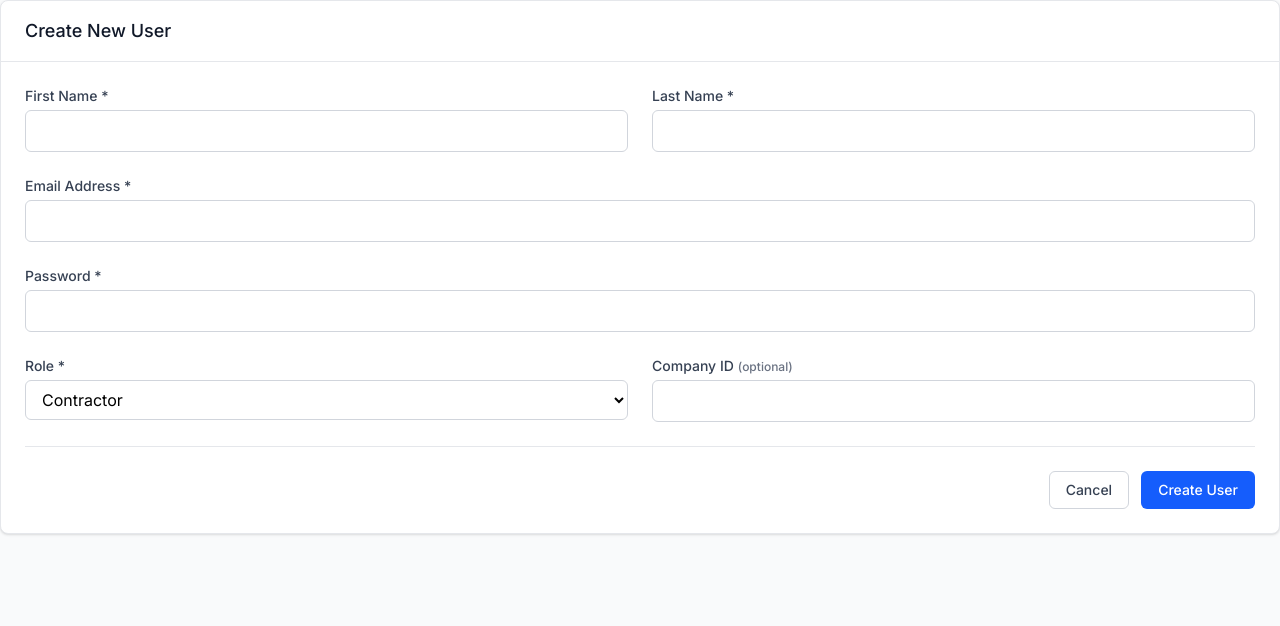
Test case: UserForm › Error Handling › displays generic error message for unknown errors
Fill and submit form
Type "Test" into the field labelled "First Name *" at [326, 131], box [25,110,628,152]
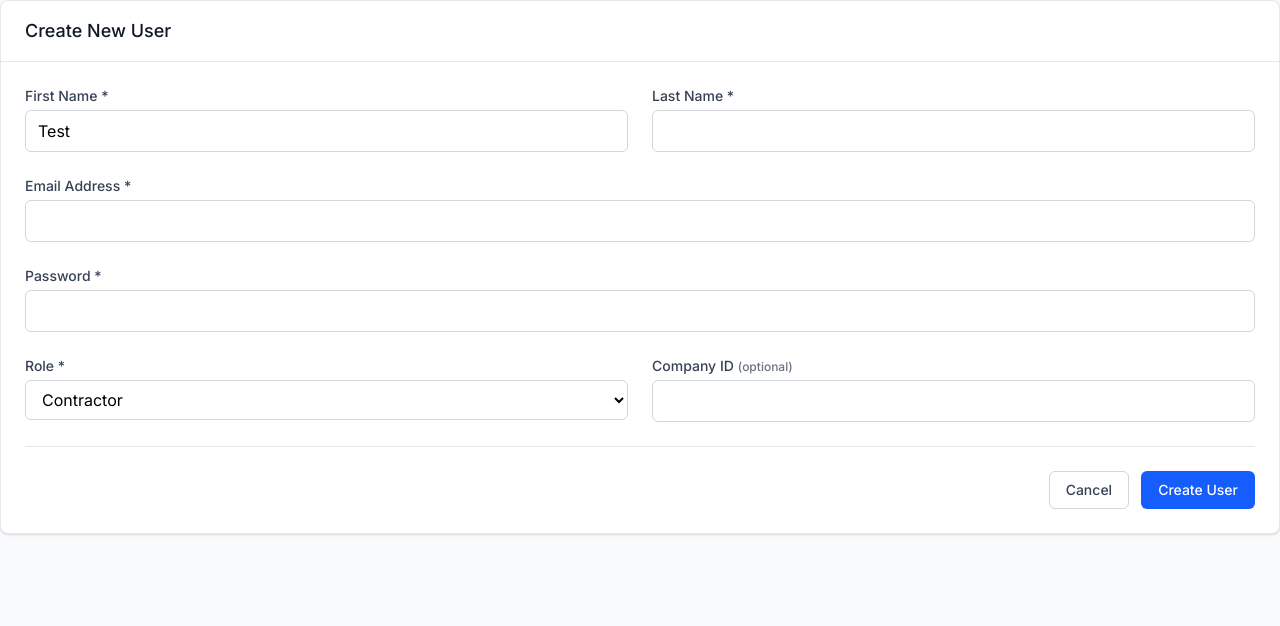
Type "User" into the field labelled "Last Name *" at [954, 131], box [652,110,1255,152]
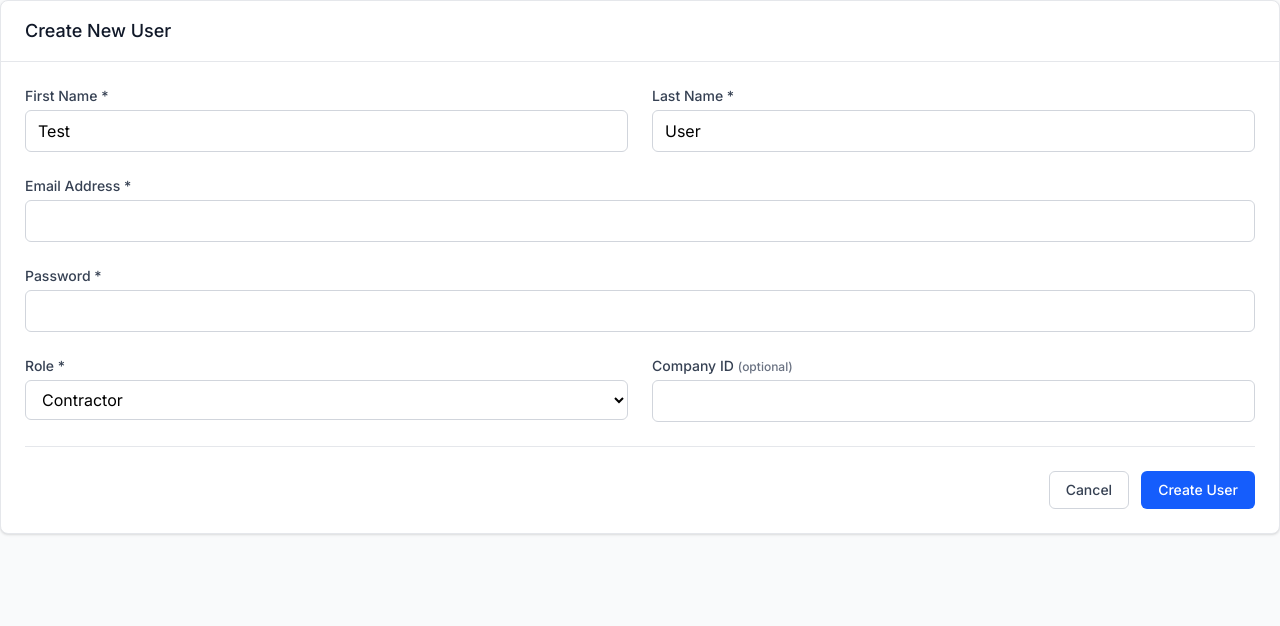
Type "test@example.com" into the field labelled "Email Address *" at [640, 221], box [25,200,1255,242]
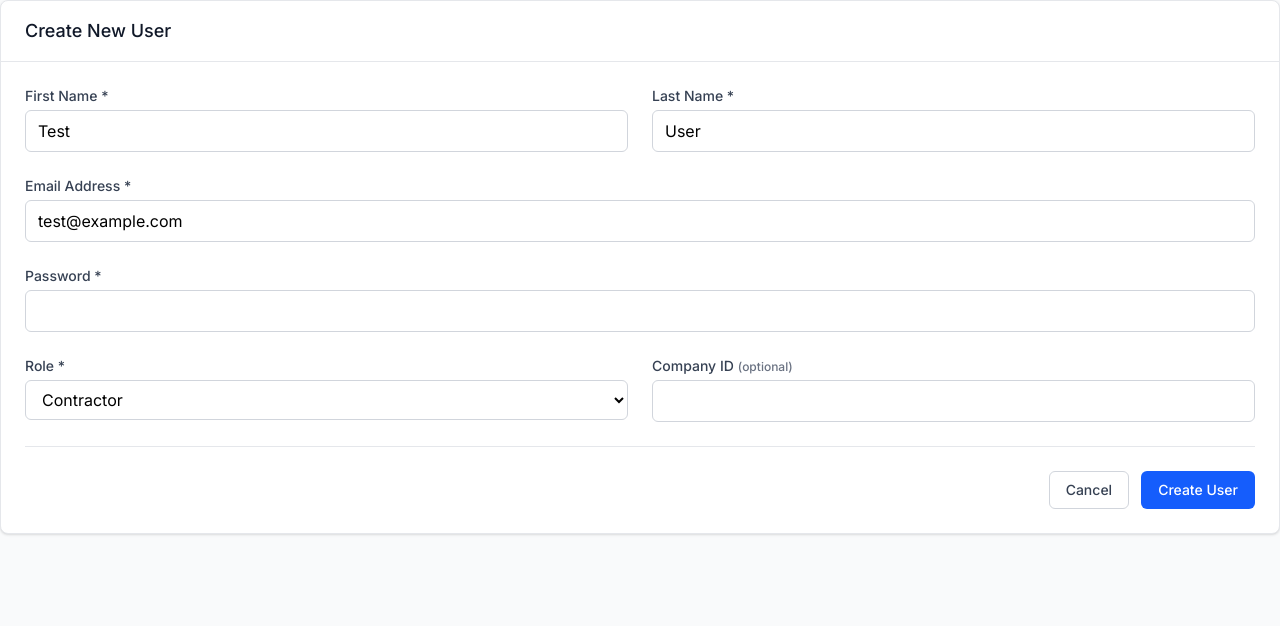
Type "password123" into the password field labelled "Password *" at [640, 311], box [25,290,1255,332]
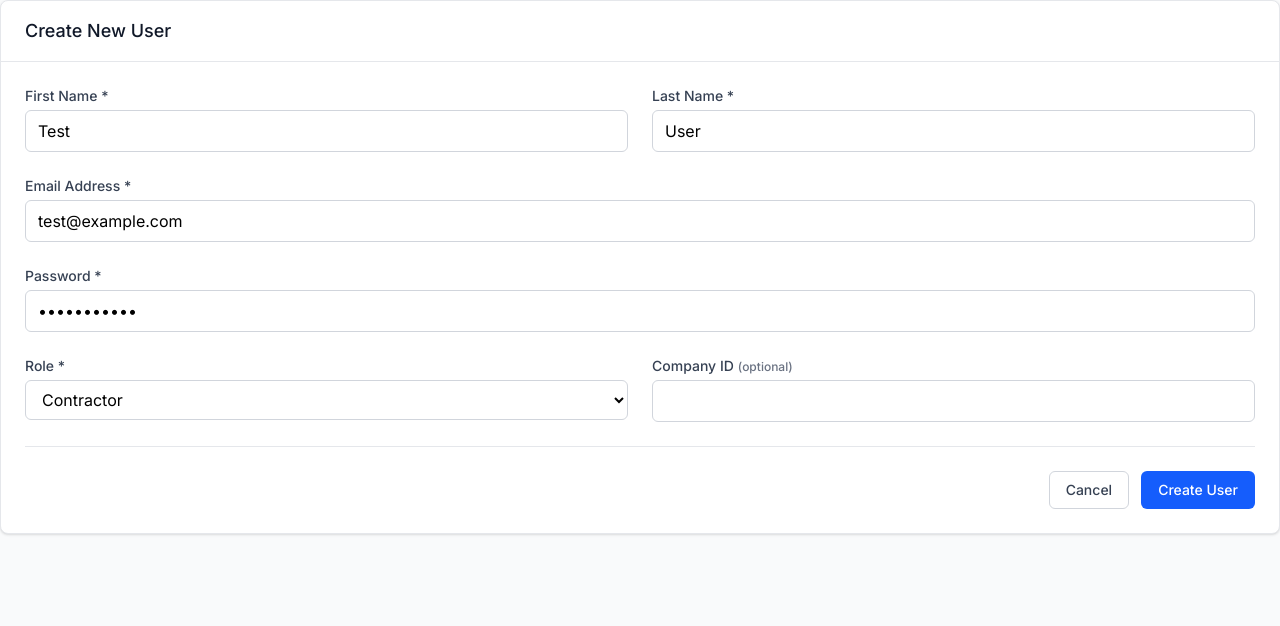
Click the button "Create User" at [1198, 490], box [1141,471,1255,509]
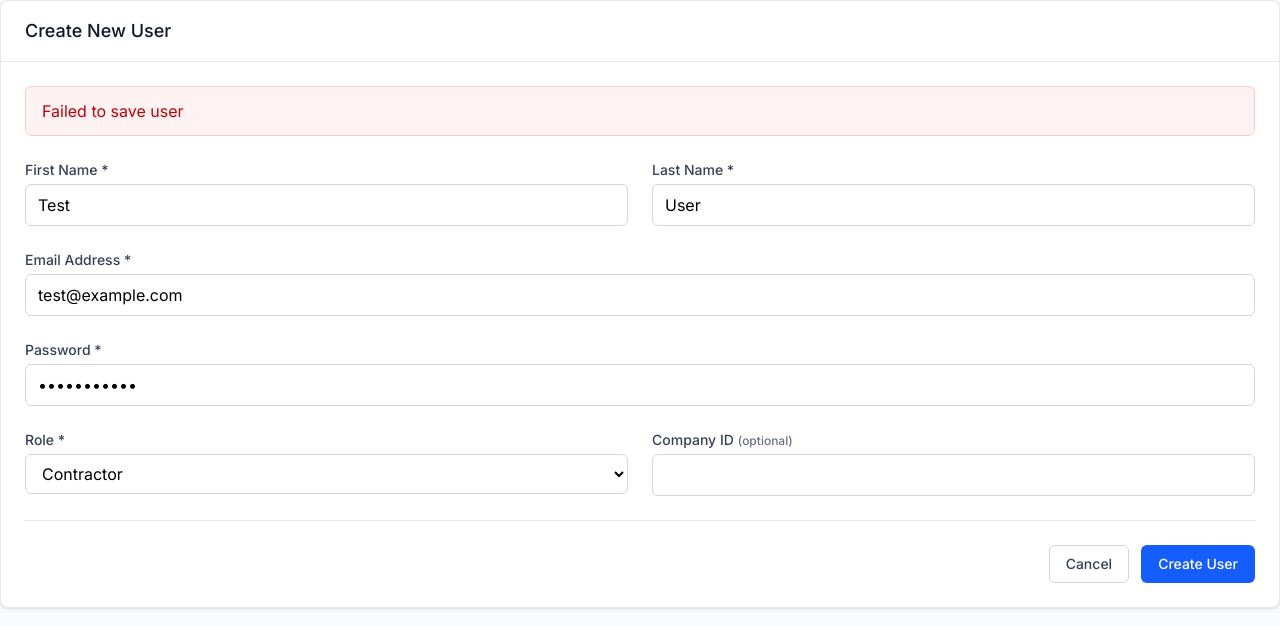
Check: the text "Failed to save user" is shown, box [25,86,1255,136]
